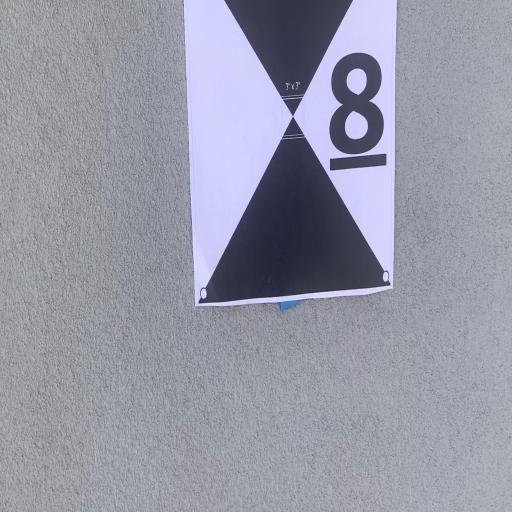target8: (184, 1, 397, 308)
